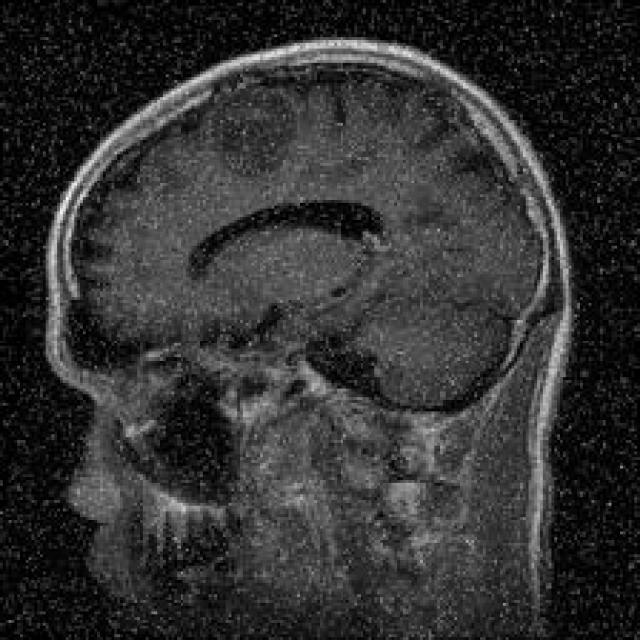glioma_tumor: (193, 70, 313, 192)
